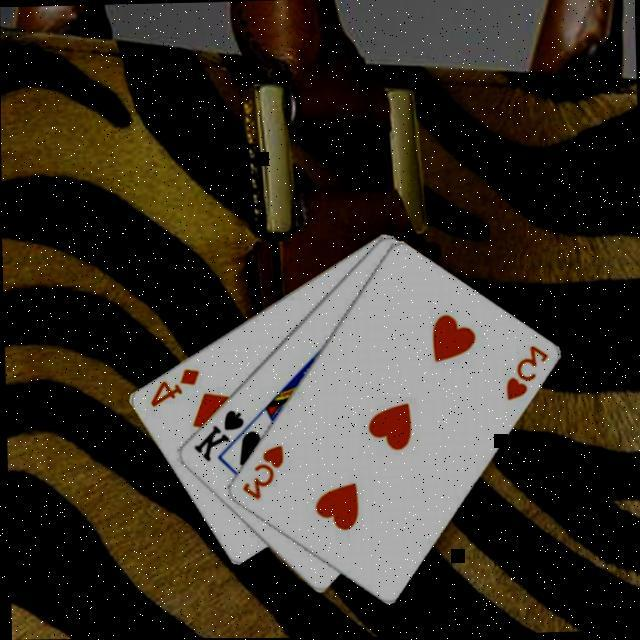3H: (237, 439, 286, 502), (500, 341, 550, 402)
4D: (145, 362, 202, 407)
KS: (188, 405, 246, 462)
